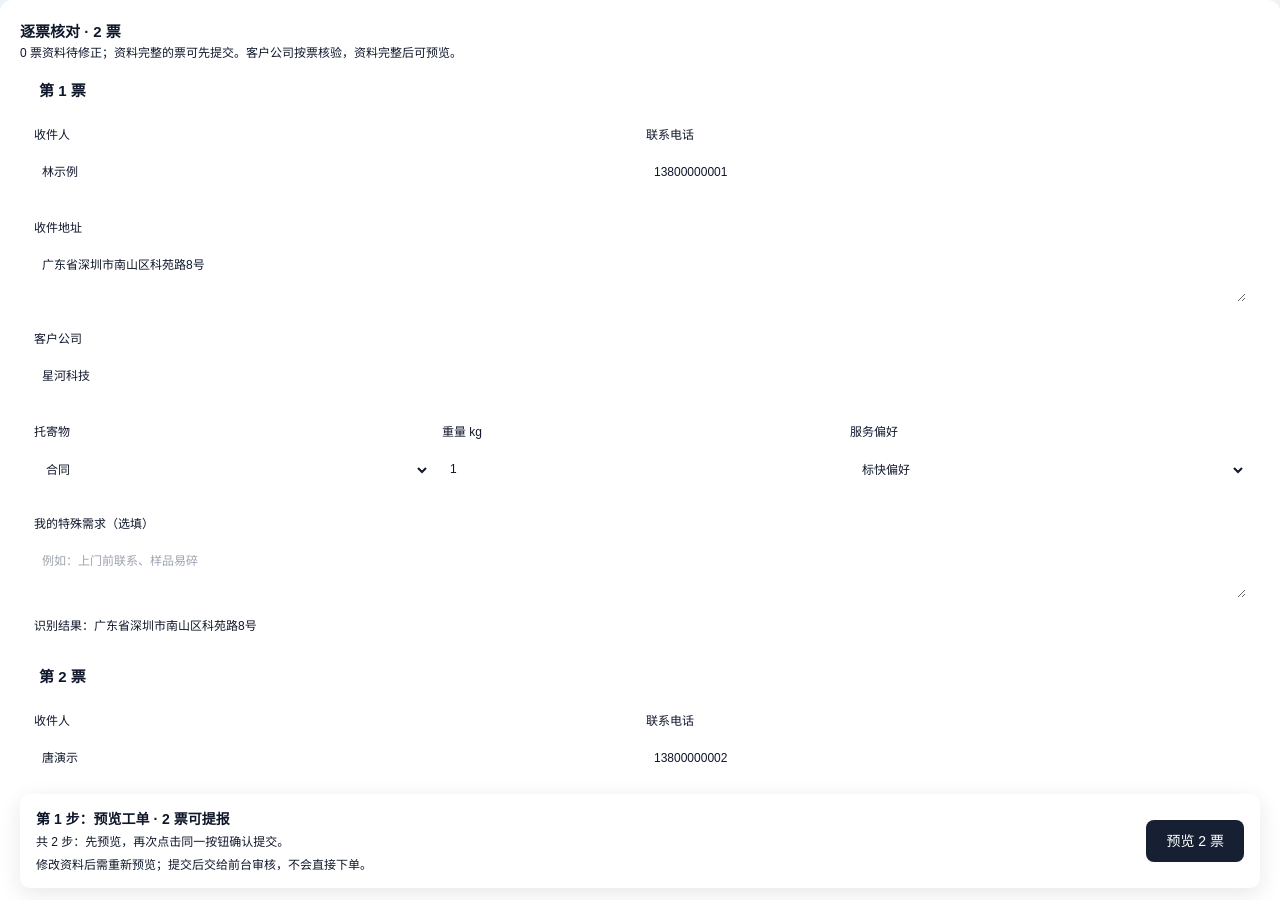
Test: binds the sole authorized department to every ticket without repeating its selector
The width and height of the screenshot is (1280, 900).
Click the button "预览 2 票" at (1195,841), box [1146,820,1244,862]
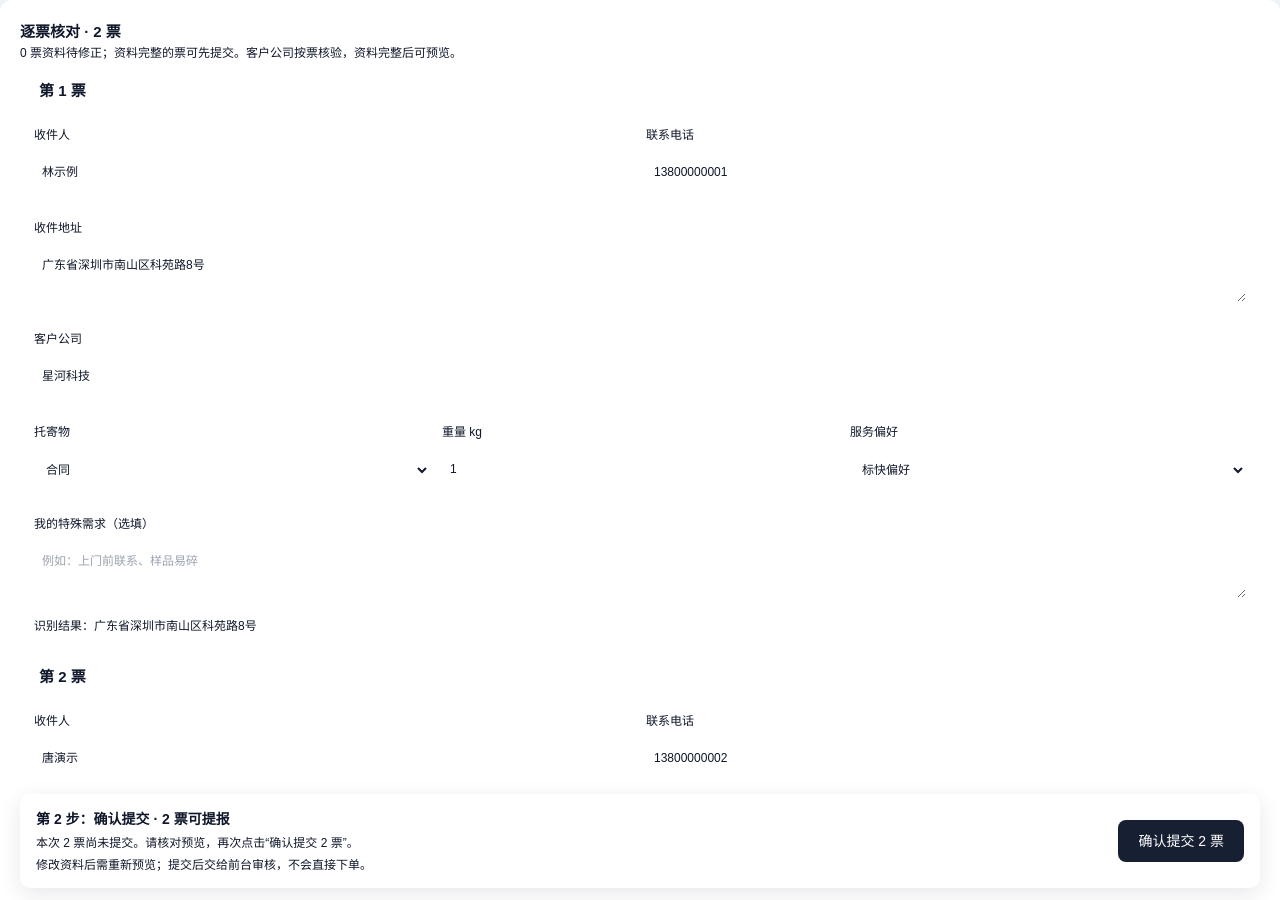
Click the button "确认提交 2 票" at (1181,841), box [1118,820,1244,862]
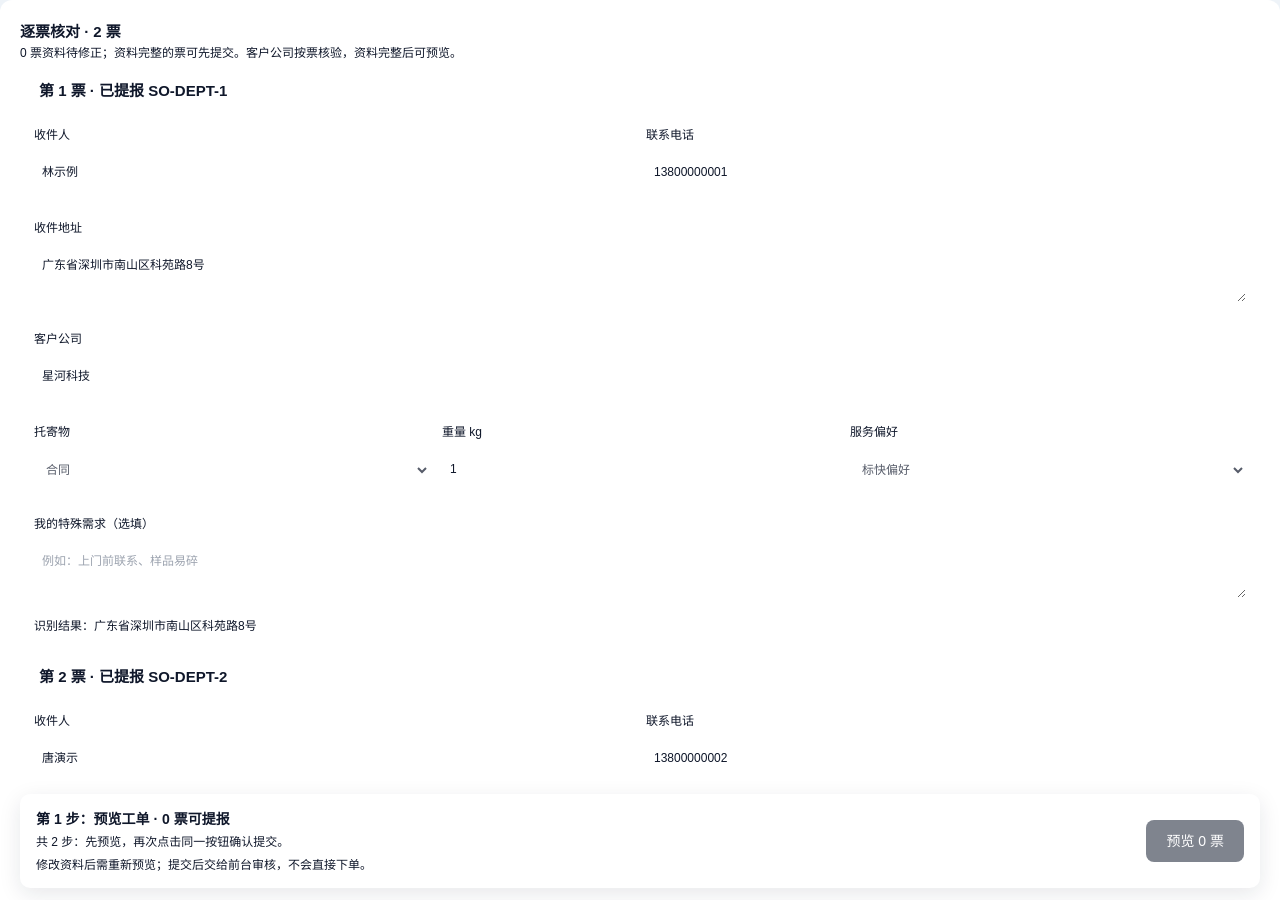
expect the text "第 2 票 · 已提报 SO-DEPT-2" is shown: met, box [34,665,232,689]
